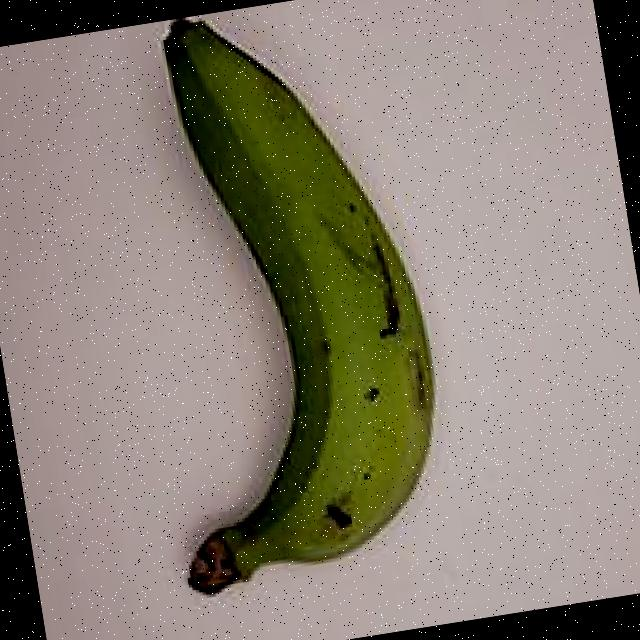Raw: (51, 0, 495, 630)
